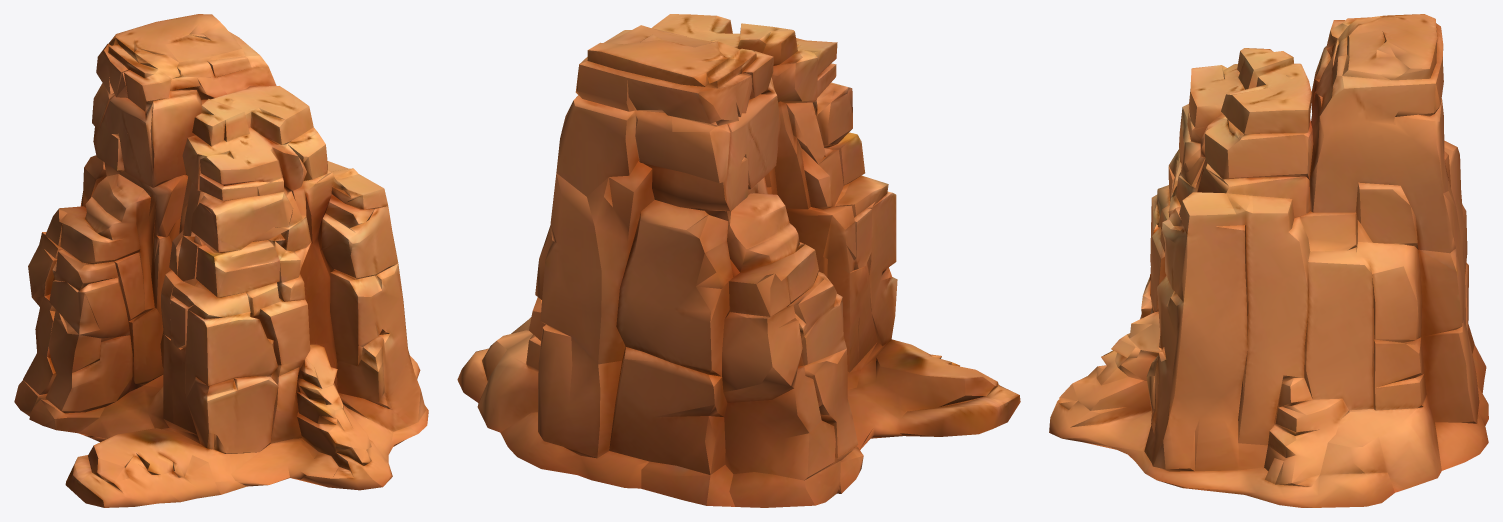
Rendered from canyonMesa.glb.
3 renders of one model, left to right at view 1: azimuth 30°, elevation 25°; view 2: azimuth 150°, elevation 25°; view 3: azimuth 270°, elevation 25°, orthographic. The views are drawn at different scales.
Parts seen in each view (by area): view 1: model; view 2: model; view 3: model.
Part boxes in pixels (bbox=[...]): model: bbox=[14, 14, 428, 507]; model: bbox=[457, 14, 1020, 507]; model: bbox=[1049, 14, 1488, 507].
Size of the model in its own units: 1.9 by 1.63 by 1.72.
1 material, 1 textured.
